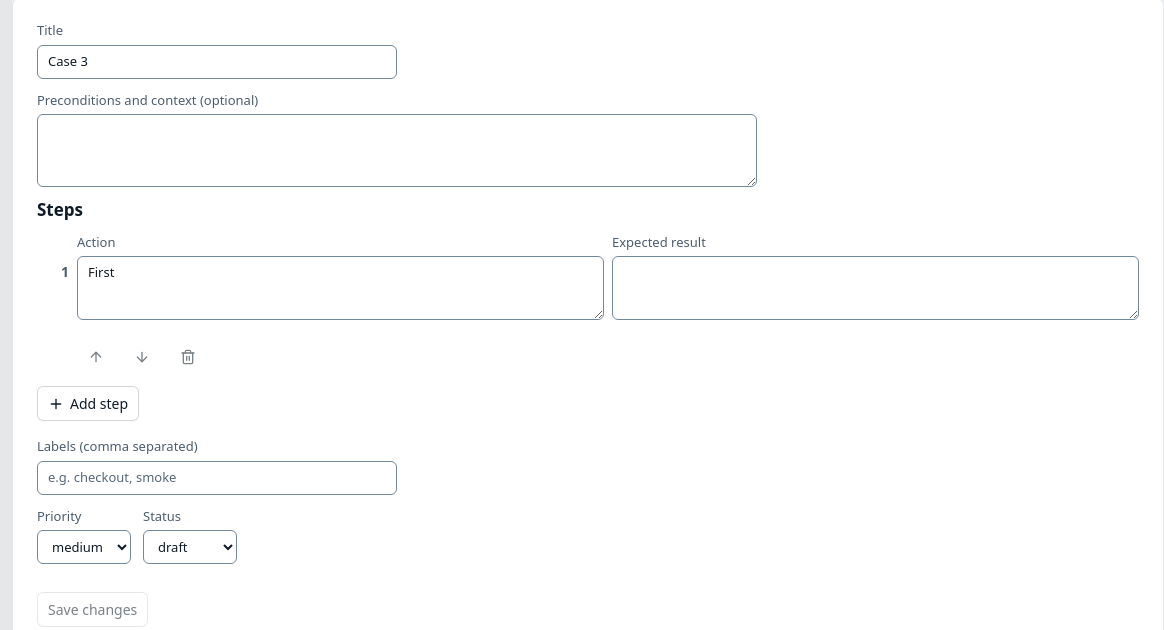
it: linking an automated test keeps the edits being typed
Type " edited" into the field labelled "Title" at {"x": 217, "y": 62}, box left=37, top=44, right=397, bottom=78
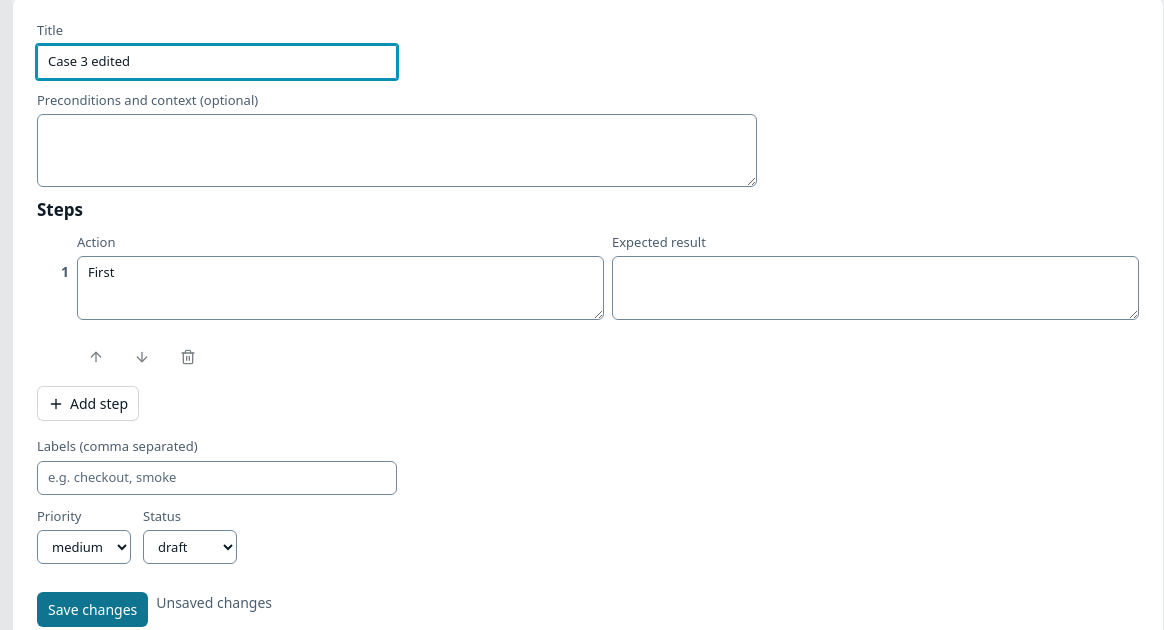
Type " more" into the text box named "action 1" at {"x": 340, "y": 288}, box left=77, top=256, right=604, bottom=320
(page scrolled)
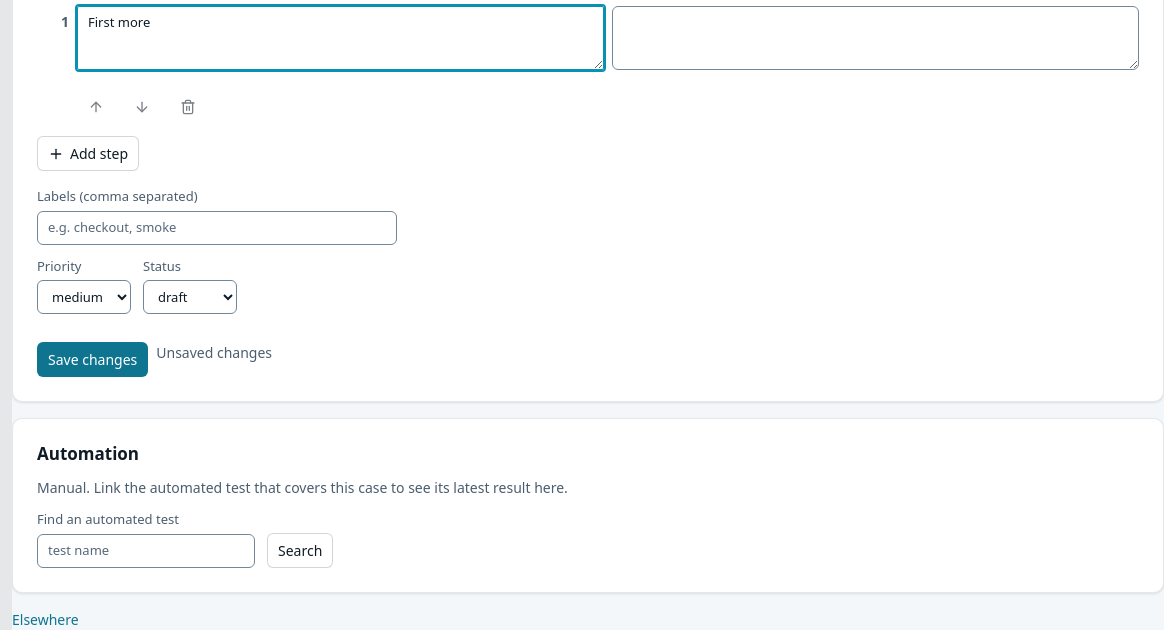
Type "pays" into the search field labelled "Find an automated test" at {"x": 146, "y": 551}, box left=37, top=534, right=255, bottom=568
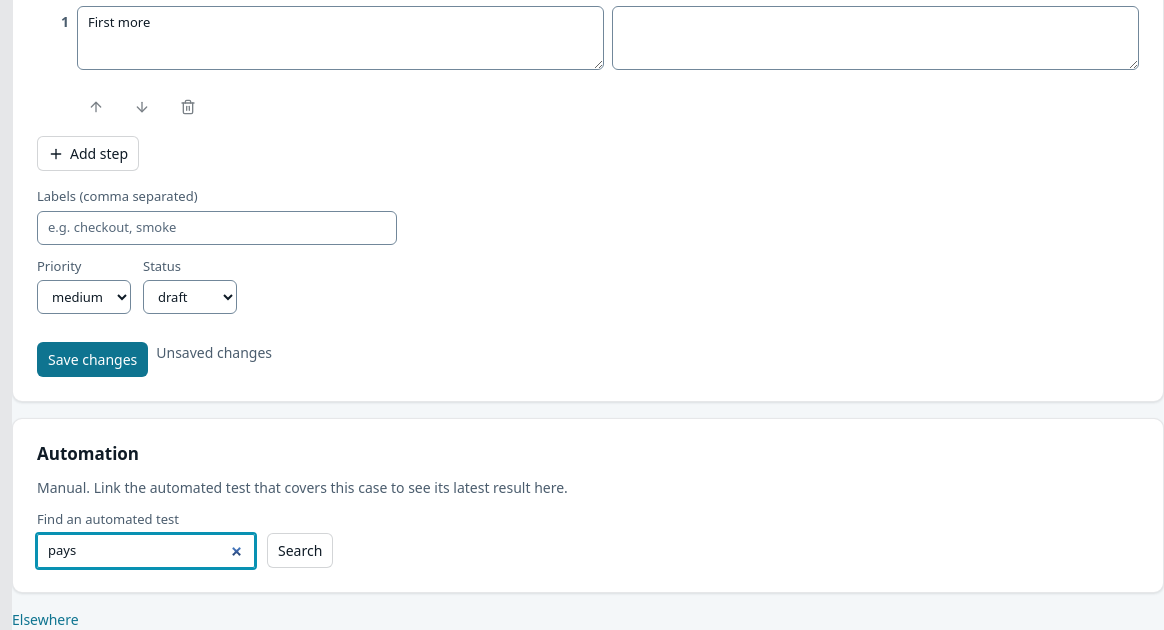
Click the button "Search" at {"x": 300, "y": 550}, box left=267, top=533, right=333, bottom=568
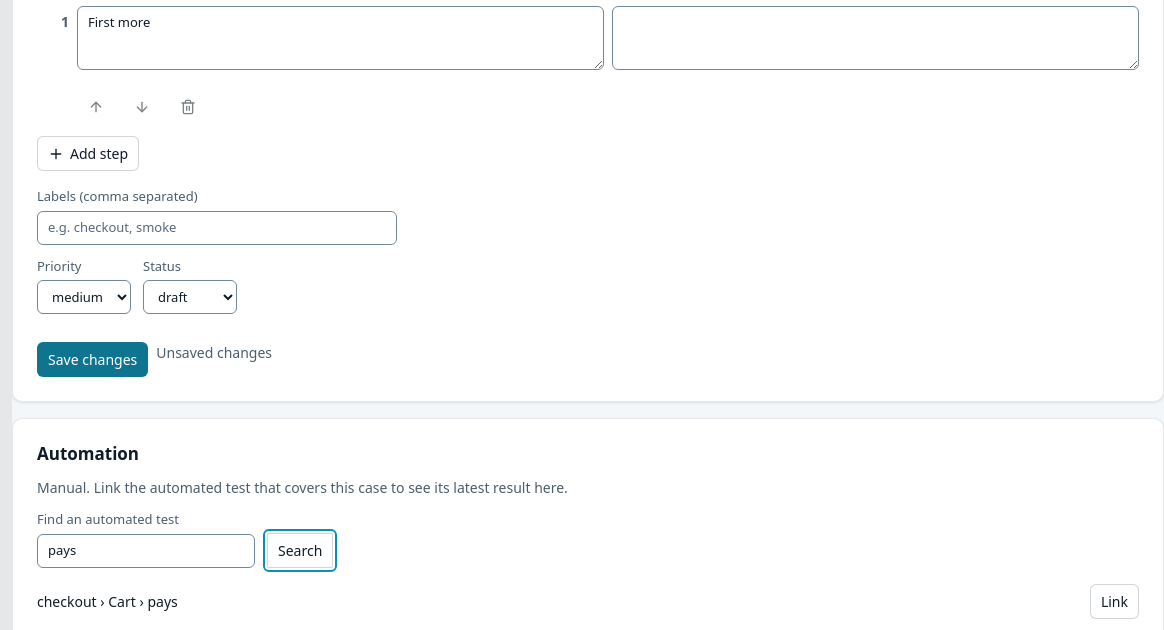
Click the button with aria-label "link checkout › cart › pays" at {"x": 1114, "y": 601}, box left=1090, top=584, right=1139, bottom=619
(page scrolled)
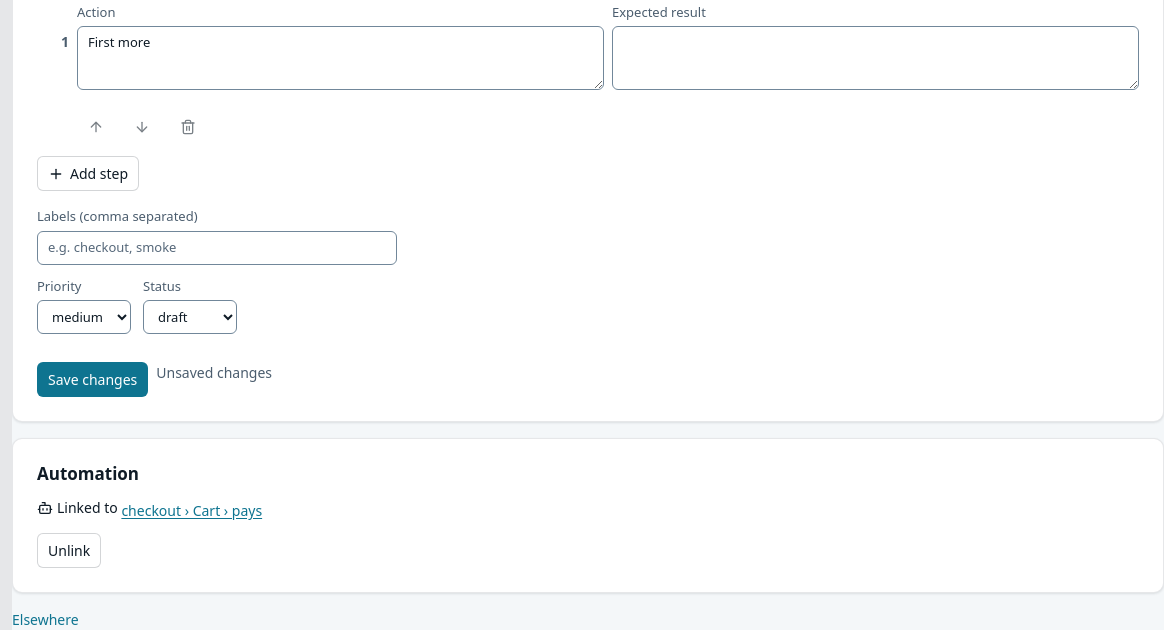
Check: the text box named "action 1" holds "First more", box left=77, top=26, right=604, bottom=90
Check: the text "Unsaved changes" is shown, box left=156, top=363, right=272, bottom=382
Check: the button "Unlink" is shown, box left=37, top=533, right=101, bottom=568
